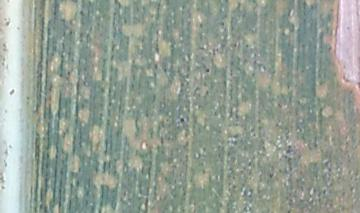tarspot: (179, 117, 186, 124), (204, 67, 209, 74)
